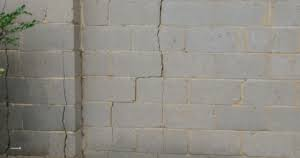crack: (60, 40, 68, 157), (2, 43, 9, 153)
stairstep_crack: (83, 0, 163, 128)
